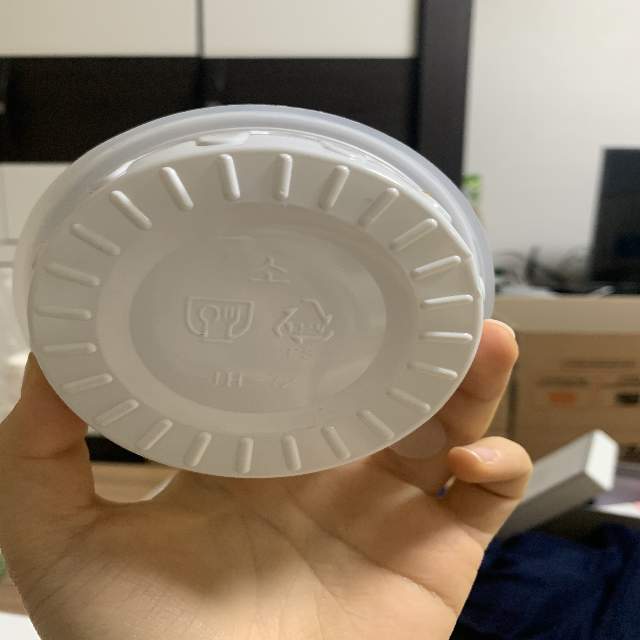ps: (272, 293, 333, 360)
